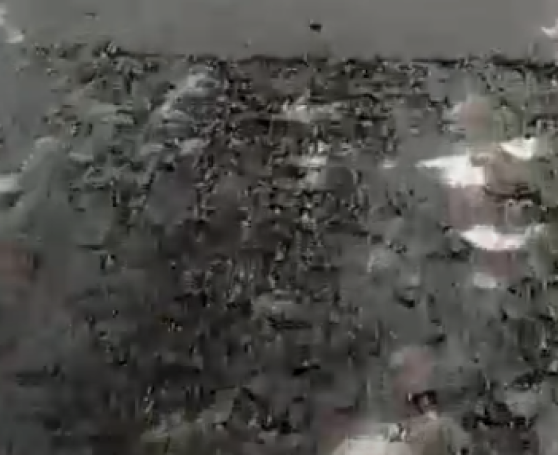Retak Buaya: (16, 45, 558, 455), (295, 21, 337, 41)
